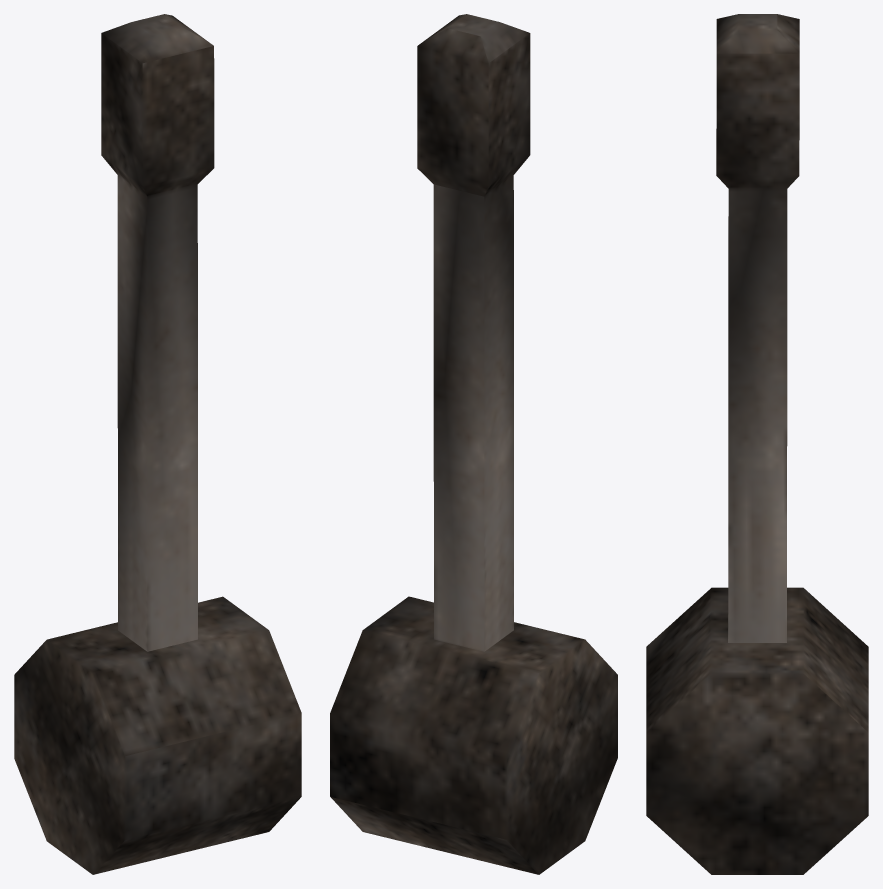
File: palanca.obj
The picture shows the model from 3 angles, left to right: view 1: azimuth 30°, elevation 25°; view 2: azimuth 150°, elevation 25°; view 3: azimuth 270°, elevation 25°; orthographic projection.
Visible parts, largest first — view 1: PalancaInterruptor; view 2: PalancaInterruptor; view 3: PalancaInterruptor.
Boxes of the visible parts, x1,y1,x2,y2 form: PalancaInterruptor: [14, 14, 301, 874]; PalancaInterruptor: [330, 14, 617, 874]; PalancaInterruptor: [646, 14, 868, 874].
Bounding box in the file's own units: 1.23 × 5.4 × 1.34.
Materials: 1 (1 with a texture image).
